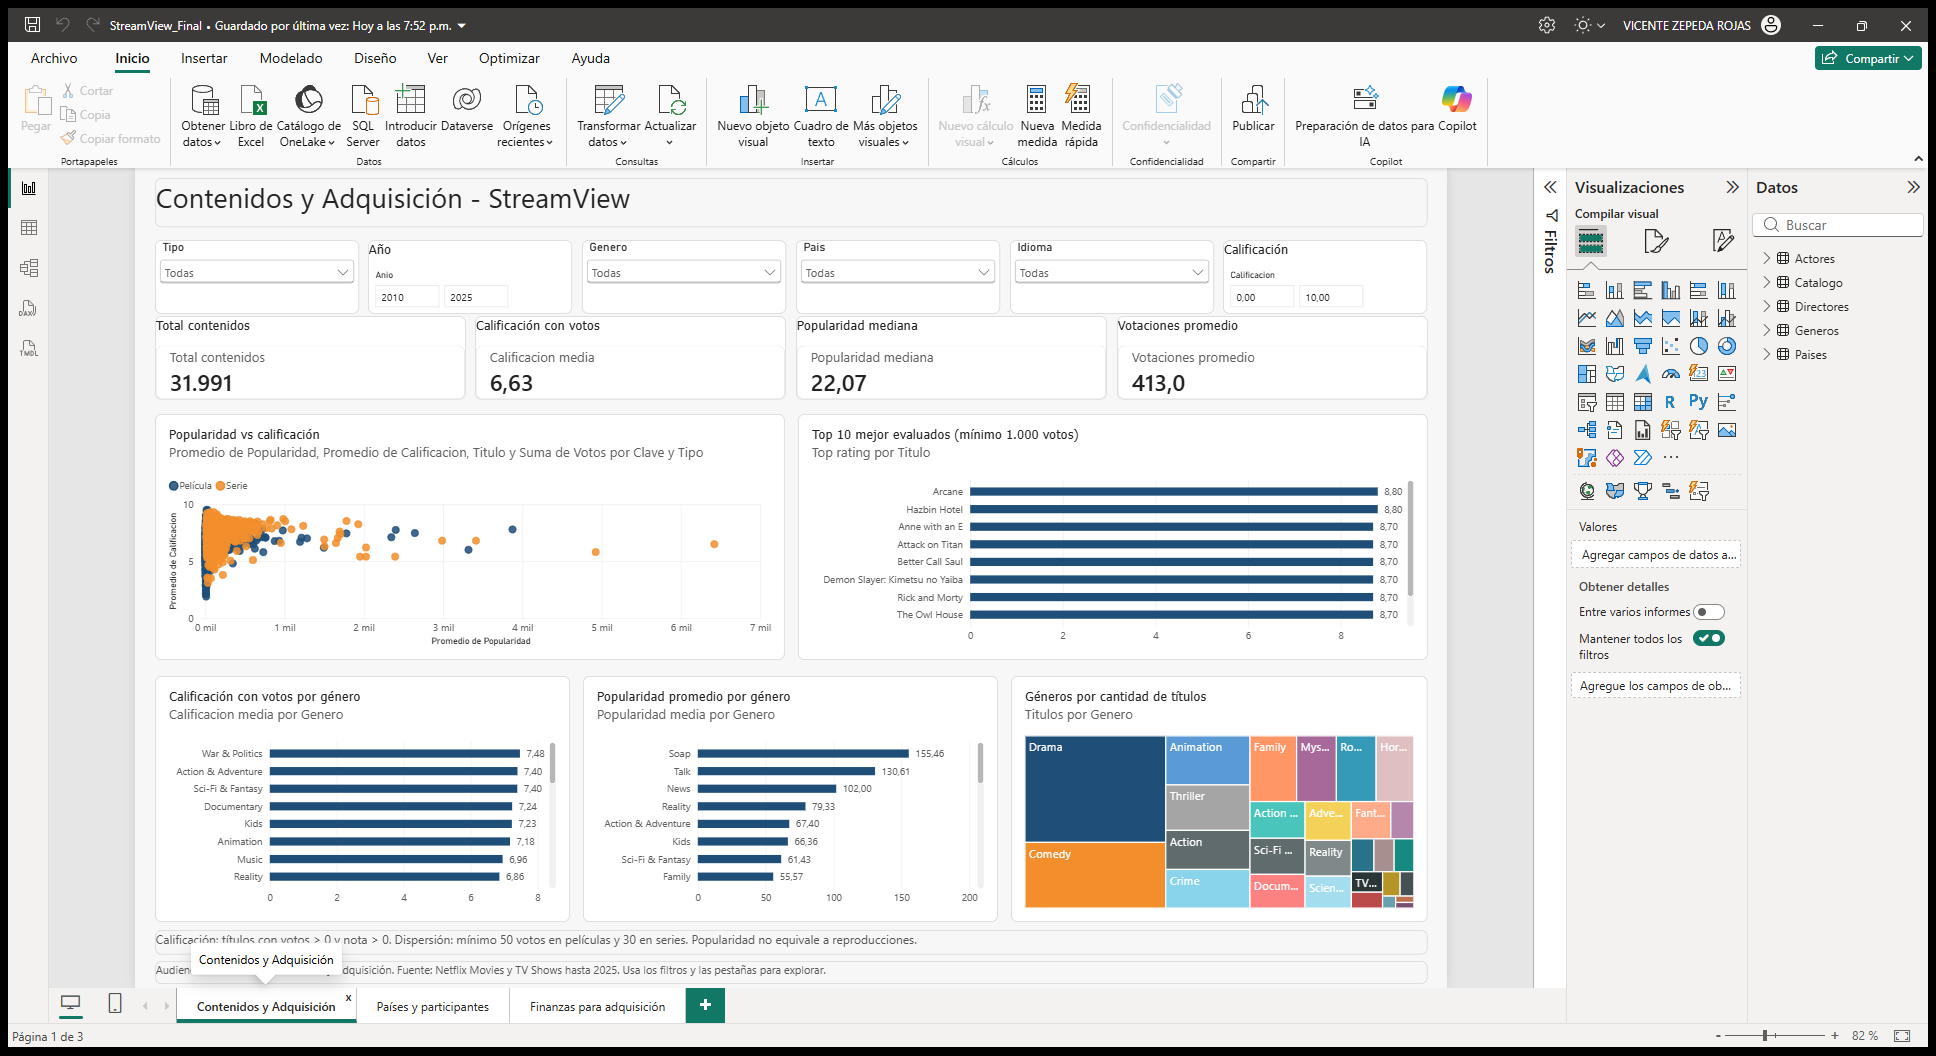

The page's visual inventory and layout, read from the dashboard file:
{"tool":"powerbi","page":{"name":"Contenidos y Adquisición","canvas":[1600,1000],"ordinal":0},"visuals":[{"type":"textbox","box":[24,12,1552,60],"z":0},{"type":"slicer","title":"Tipo","fields":{"Values":["Catalogo.Tipo"]},"box":[24,88,248.7,90],"z":1},{"type":"slicer","title":"Año","fields":{"Values":["Catalogo.Anio"]},"box":[284.7,88,248.7,90],"z":2},{"type":"slicer","title":"Género","fields":{"Values":["Generos.Genero"]},"box":[545.3,88,248.7,90],"z":3},{"type":"slicer","title":"País","fields":{"Values":["Paises.Pais"]},"box":[806,88,248.7,90],"z":4},{"type":"slicer","title":"Idioma","fields":{"Values":["Catalogo.Idioma"]},"box":[1066.7,88,248.7,90],"z":5},{"type":"slicer","title":"Calificación","fields":{"Values":["Catalogo.Calificacion"]},"box":[1327.3,88,248.7,90],"z":6},{"type":"textbox","box":[24,967,1552,28],"z":7},{"type":"cardVisual","title":"Total contenidos","fields":{"Data":["Catalogo.Total contenidos"]},"box":[24,180,379,102],"z":8},{"type":"cardVisual","title":"Calificación con votos","fields":{"Data":["Catalogo.Calificacion media"]},"box":[415,180,379,102],"z":9},{"type":"cardVisual","title":"Popularidad mediana","fields":{"Data":["Catalogo.Popularidad mediana"]},"box":[806,180,379,102],"z":10},{"type":"cardVisual","title":"Votaciones promedio","fields":{"Data":["Catalogo.Votaciones promedio"]},"box":[1197,180,379,102],"z":11},{"type":"scatterChart","title":"Popularidad vs calificación","fields":{"Category":["Catalogo.Clave"],"X":["1(Catalogo.Popularidad)"],"Y":["1(Catalogo.Calificacion)"],"Series":["Catalogo.Tipo"]},"box":[24,300,768,300],"z":12},{"type":"clusteredBarChart","title":"Top 10 mejor evaluados (mínimo 1.000 votos)","fields":{"Category":["Catalogo.Titulo"],"Y":["Catalogo.Top rating"]},"box":[808,300,768,300],"z":13},{"type":"clusteredBarChart","title":"Calificación con votos por género","fields":{"Category":["Generos.Genero"],"Y":["Catalogo.Calificacion media"]},"box":[24,620,506,300],"z":14},{"type":"clusteredBarChart","title":"Popularidad promedio por género","fields":{"Category":["Generos.Genero"],"Y":["Catalogo.Popularidad media"]},"box":[546,620,506,300],"z":15},{"type":"treemap","title":"Géneros por cantidad de títulos","fields":{"Group":["Generos.Genero"],"Values":["Catalogo.Titulos"]},"box":[1068,620,508,300],"z":16},{"type":"textbox","box":[24,929,1552,30],"z":17}]}

Visuals, with their boxes on the page's 1600x1000 design canvas (x1, y1, x2, y2). These are canvas units, not pixel positions in the 1936x1056 screenshot, which may show the page scaled, cropped or inside an application window:
textbox: select_region(24, 12, 1576, 72)
"Tipo" slicer: select_region(24, 88, 273, 178)
"Año" slicer: select_region(285, 88, 533, 178)
"Género" slicer: select_region(545, 88, 794, 178)
"País" slicer: select_region(806, 88, 1055, 178)
"Idioma" slicer: select_region(1067, 88, 1315, 178)
"Calificación" slicer: select_region(1327, 88, 1576, 178)
textbox: select_region(24, 967, 1576, 995)
"Total contenidos" cardVisual: select_region(24, 180, 403, 282)
"Calificación con votos" cardVisual: select_region(415, 180, 794, 282)
"Popularidad mediana" cardVisual: select_region(806, 180, 1185, 282)
"Votaciones promedio" cardVisual: select_region(1197, 180, 1576, 282)
"Popularidad vs calificación" scatterChart: select_region(24, 300, 792, 600)
"Top 10 mejor evaluados (mínimo 1.000 votos)" clusteredBarChart: select_region(808, 300, 1576, 600)
"Calificación con votos por género" clusteredBarChart: select_region(24, 620, 530, 920)
"Popularidad promedio por género" clusteredBarChart: select_region(546, 620, 1052, 920)
"Géneros por cantidad de títulos" treemap: select_region(1068, 620, 1576, 920)
textbox: select_region(24, 929, 1576, 959)
